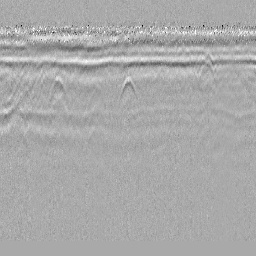cavity: (119, 75, 137, 100)
